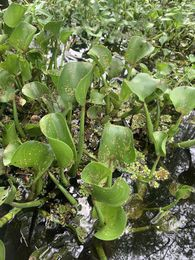water_hyacinth: (0, 23, 195, 247)
